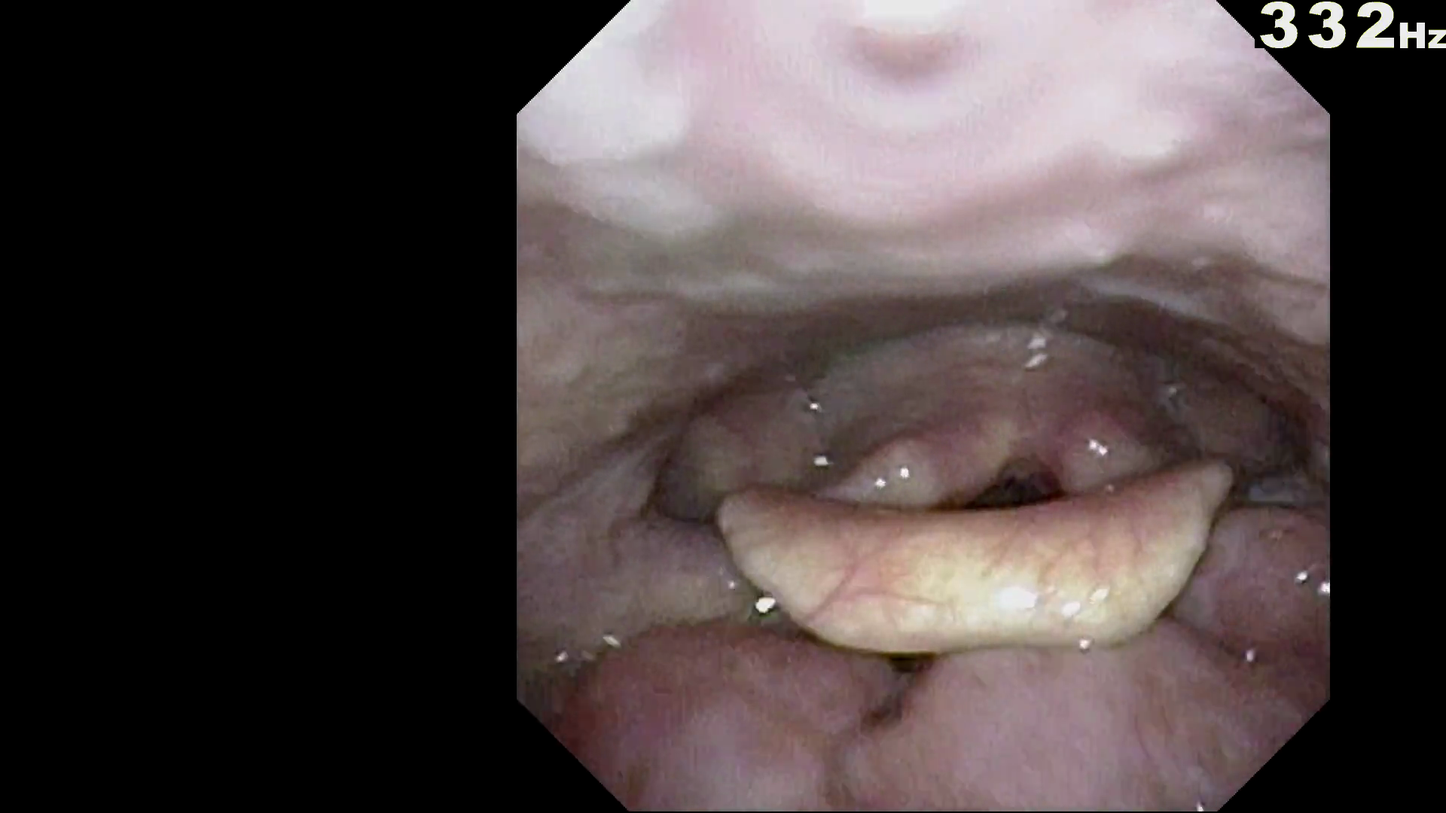epiglottis: (692, 506, 1234, 678)
trachea: (945, 457, 1063, 566)
